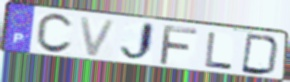C: (34, 12, 75, 55)
D: (240, 32, 283, 77)
F: (157, 23, 200, 67)
J: (118, 20, 156, 64)
L: (203, 31, 234, 71)
V: (77, 15, 119, 59)
